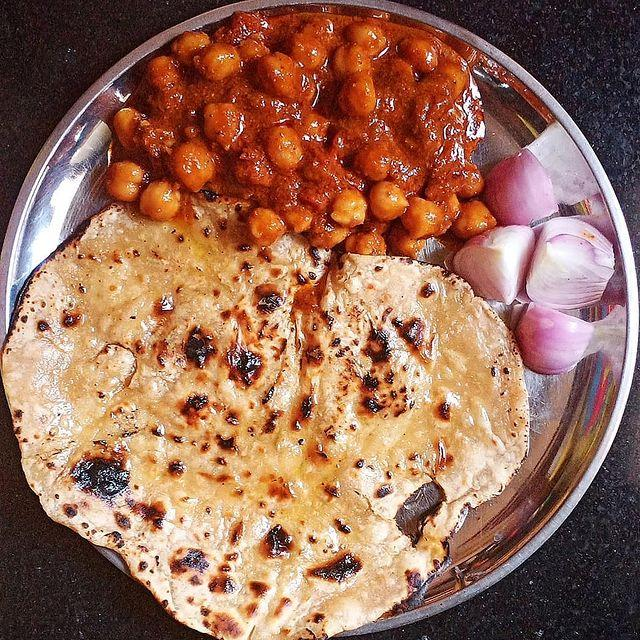Chole: (142, 7, 473, 245)
